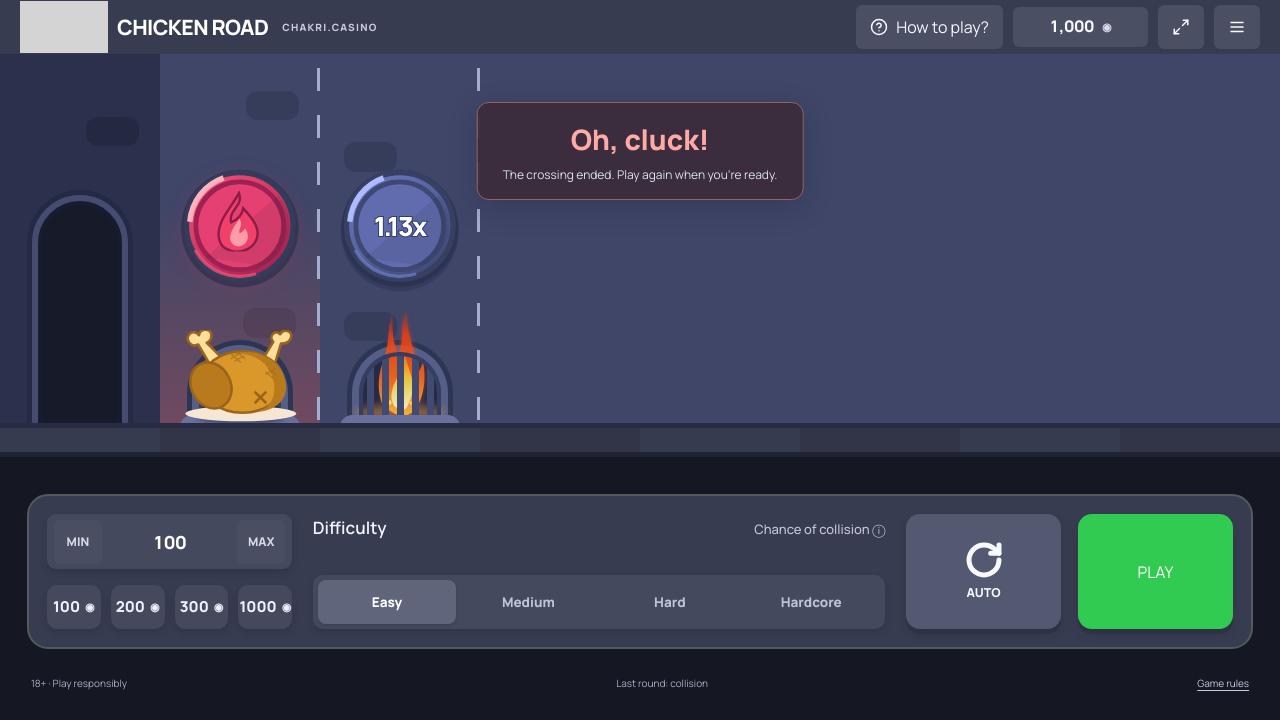
Test: a network failure does not present a verified round or change funds
The image size is (1280, 720).
Click the button "Game rules".
click(1223, 683)  # box [1197,661,1249,705]
(page scrolled)
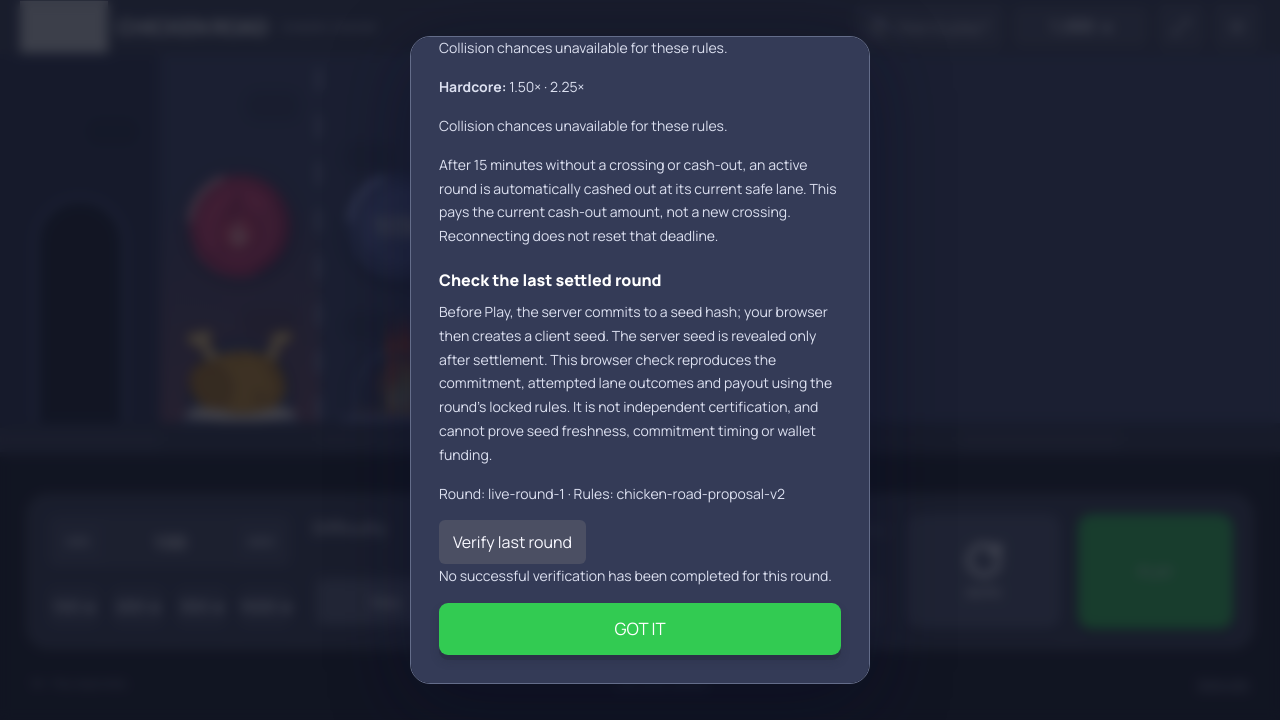
Click the button "Verify last round".
click(512, 542)  # box [439,520,586,564]
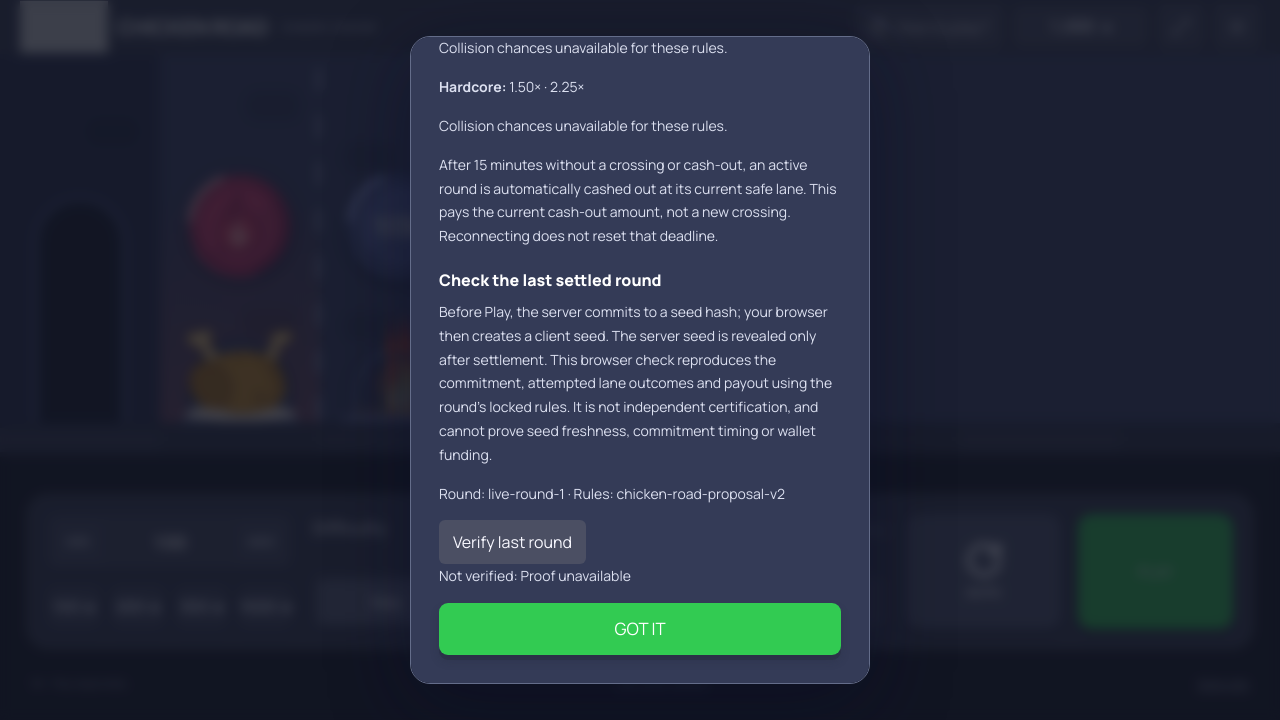
Check: the text "Not verified:" is shown, box [439,566,631,585]
